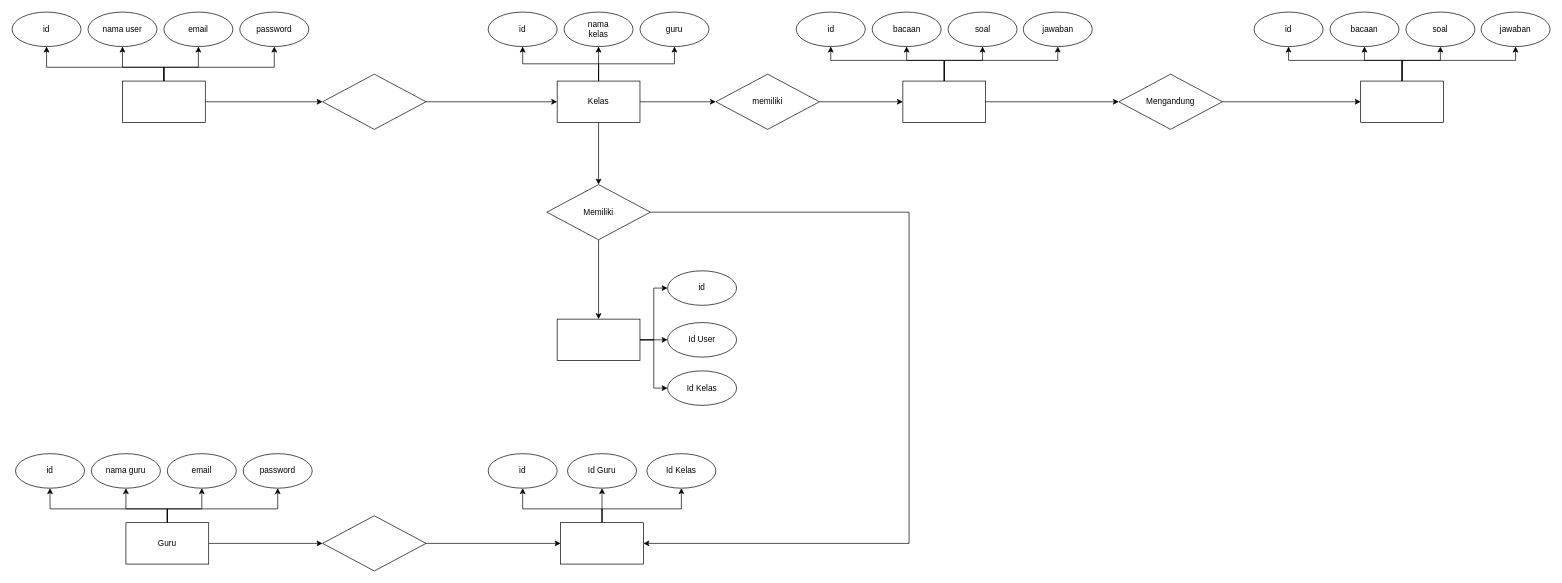
Some shapes in this 1562 by 583 pixel diagram are drawn without their labels. The shapes that lost their labels are listed below. From the top down, each one's centre as x and y in pixels, then its label:
At [163,101]: "User".
At [374,101]: "Join".
At [944,101]: "Quiz".
At [1401,101]: "Nilai".
At [598,339]: "Kelas Yang Diambil (By User)".
At [374,543]: "Mengatur".
At [601,543]: "Kelas Yang Diurus(By Guru)".
